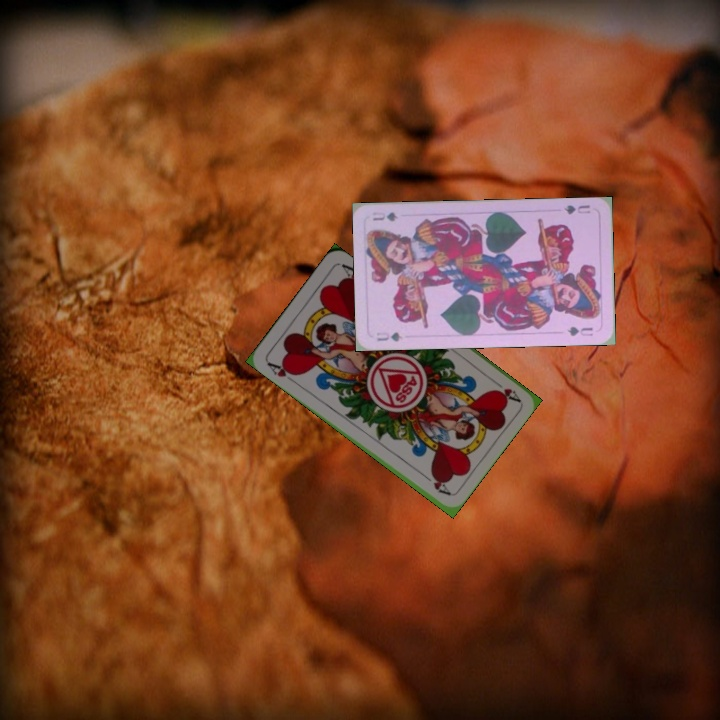GU: (560, 201, 593, 217), (373, 328, 405, 344)
HA: (487, 374, 522, 404), (263, 357, 300, 380)
